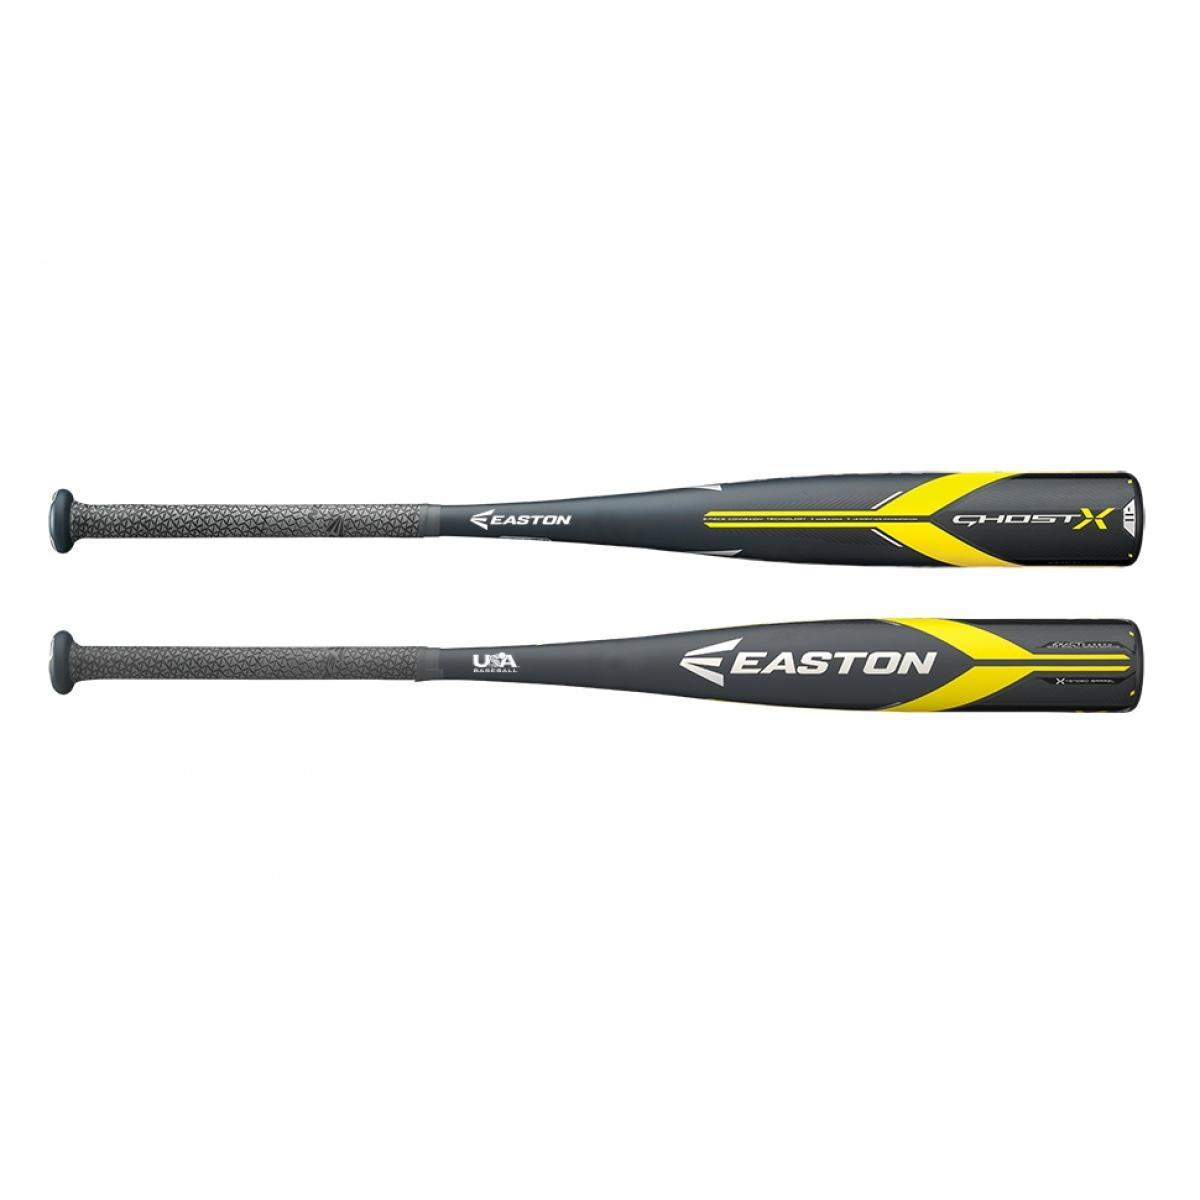Baseball-Bat: (60, 420, 1149, 593)
